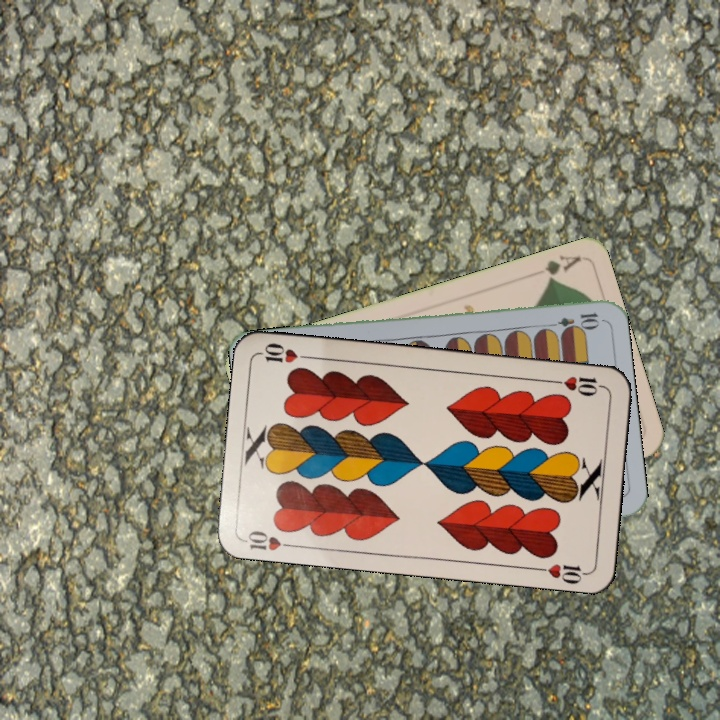E10: (543, 308, 602, 332)
GA: (540, 251, 583, 284)
H10: (240, 526, 299, 553), (547, 372, 607, 398)
